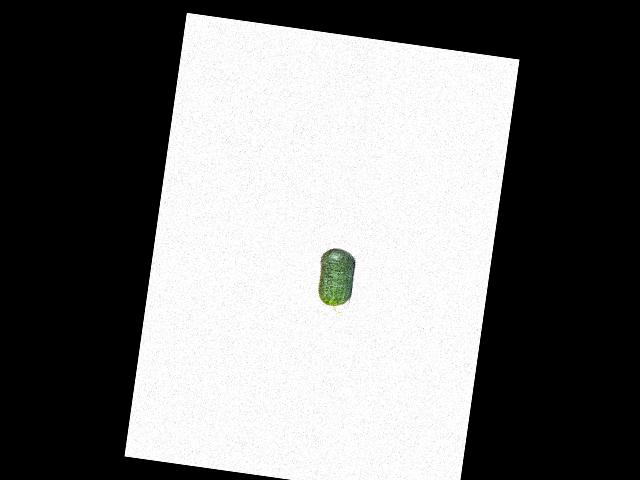cucumber: (313, 247, 357, 315)
